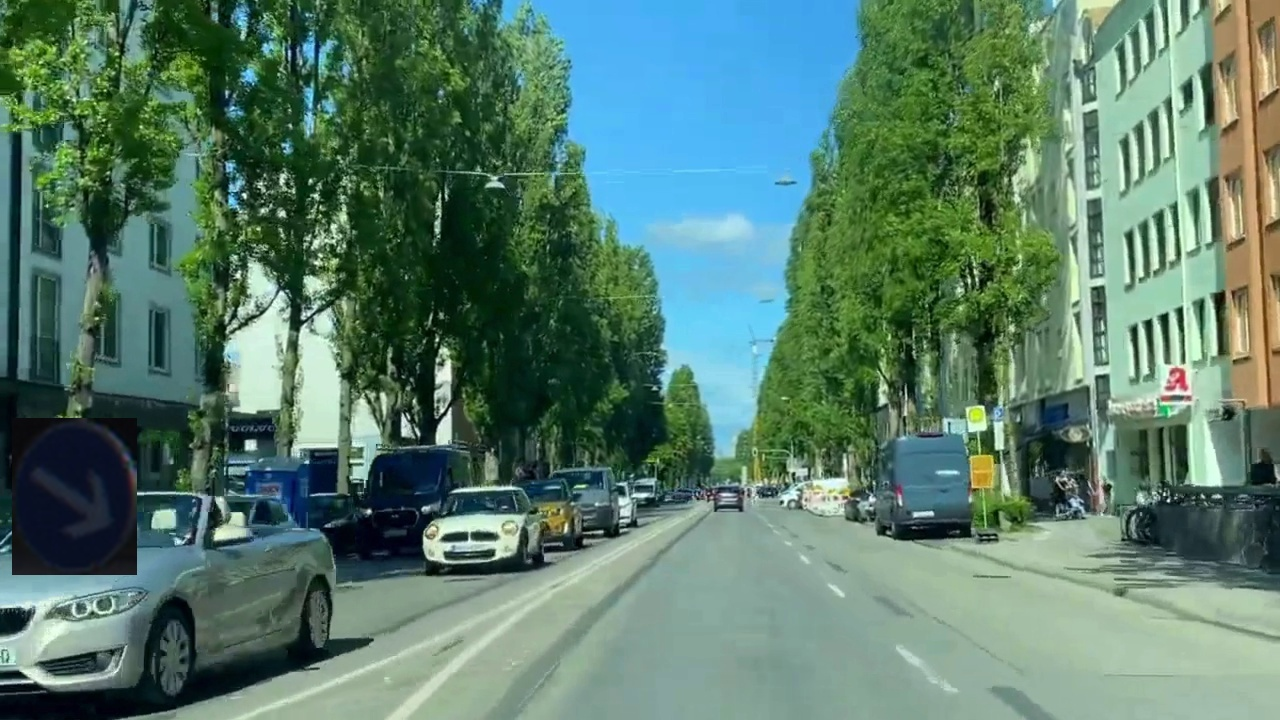Keep right: (12, 418, 137, 575)
